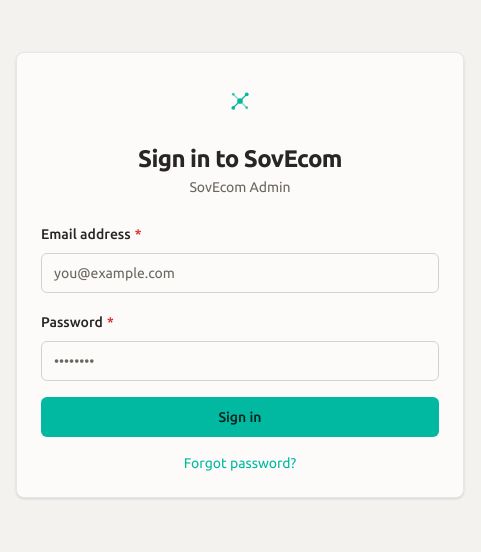
Test case: LoginPage › shows error on 401
Type "admin@example.com" into the field labelled "Email address*".
click(240, 273); type("admin@example.com")  # box top-left (41, 253), bottom-right (439, 293)
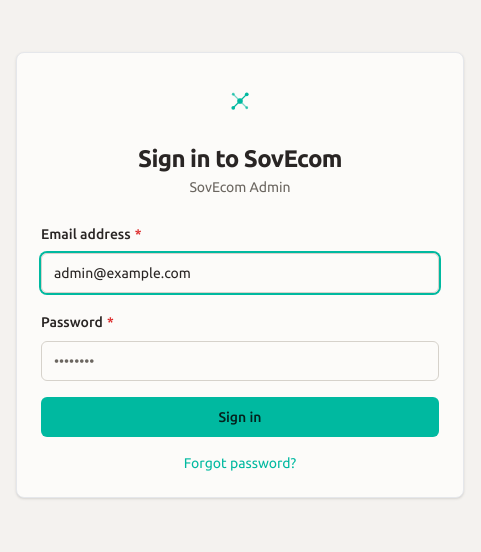
Type "wrong" into the password field labelled "Password*".
click(240, 361); type("wrong")  # box top-left (41, 341), bottom-right (439, 381)
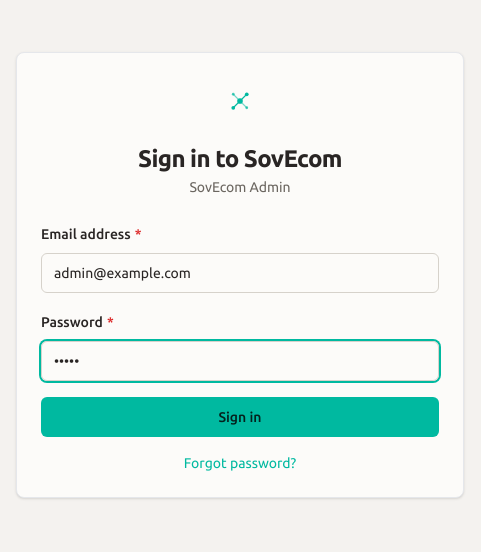
Click the button "Sign in".
click(240, 417)  # box top-left (41, 397), bottom-right (439, 437)
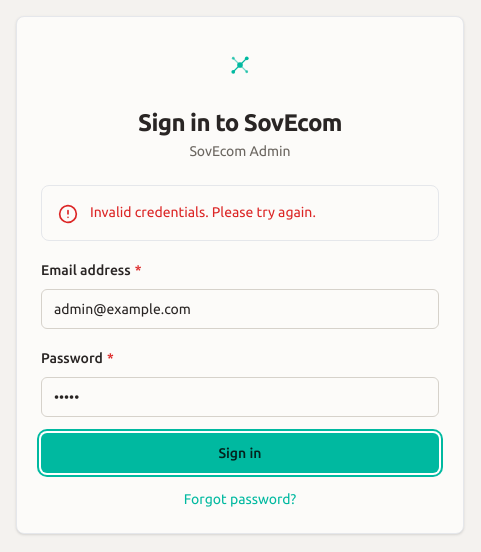
Now the text "Invalid credentials. Please try again." is shown, box top-left (90, 202), bottom-right (316, 222)
